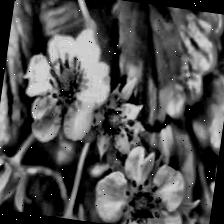Blossom Blight: (40, 48, 89, 119), (92, 92, 138, 149), (118, 174, 168, 224)
